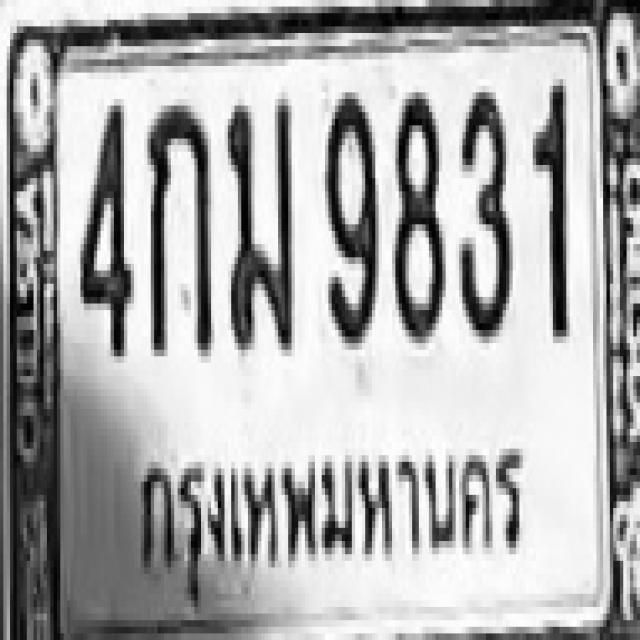1: (530, 79, 566, 337)
10GorGai: (146, 99, 209, 350)
3: (456, 86, 509, 330)
4: (77, 99, 131, 350)
42MorMa: (224, 92, 292, 350)
8: (392, 86, 442, 336)
9: (322, 86, 375, 336)
Bangkok: (123, 422, 546, 616)
